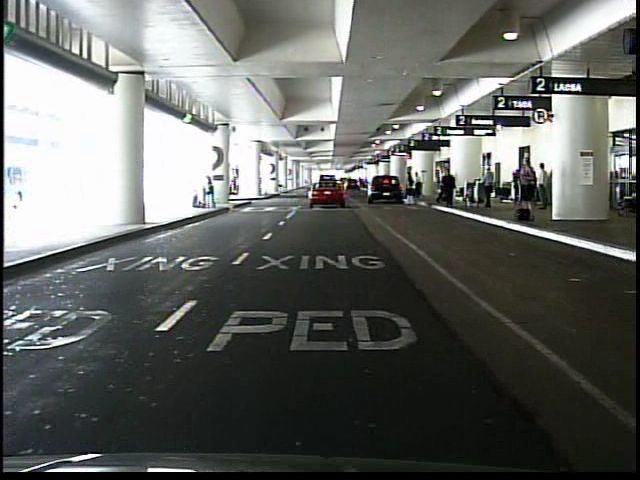person: (517, 156, 538, 210), (536, 162, 551, 212), (483, 165, 497, 210), (202, 173, 218, 210), (443, 169, 458, 208), (405, 169, 418, 205), (439, 166, 450, 204), (413, 170, 423, 199)
